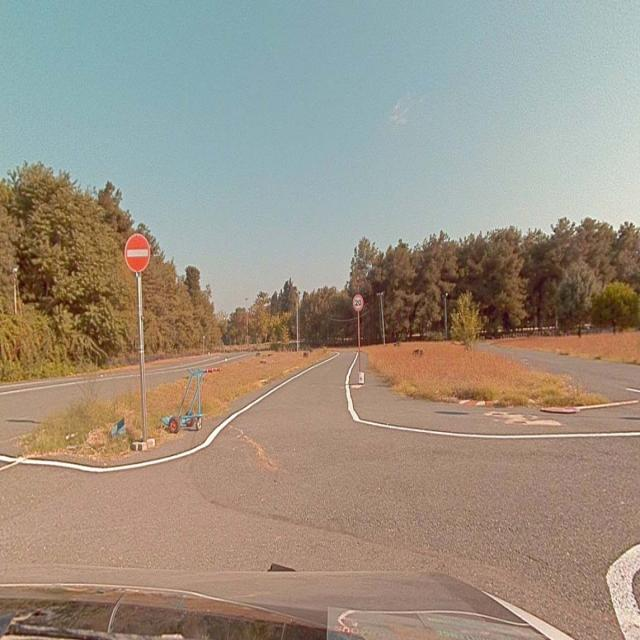20: (354, 294, 363, 310)
girisyok: (124, 234, 150, 270)
